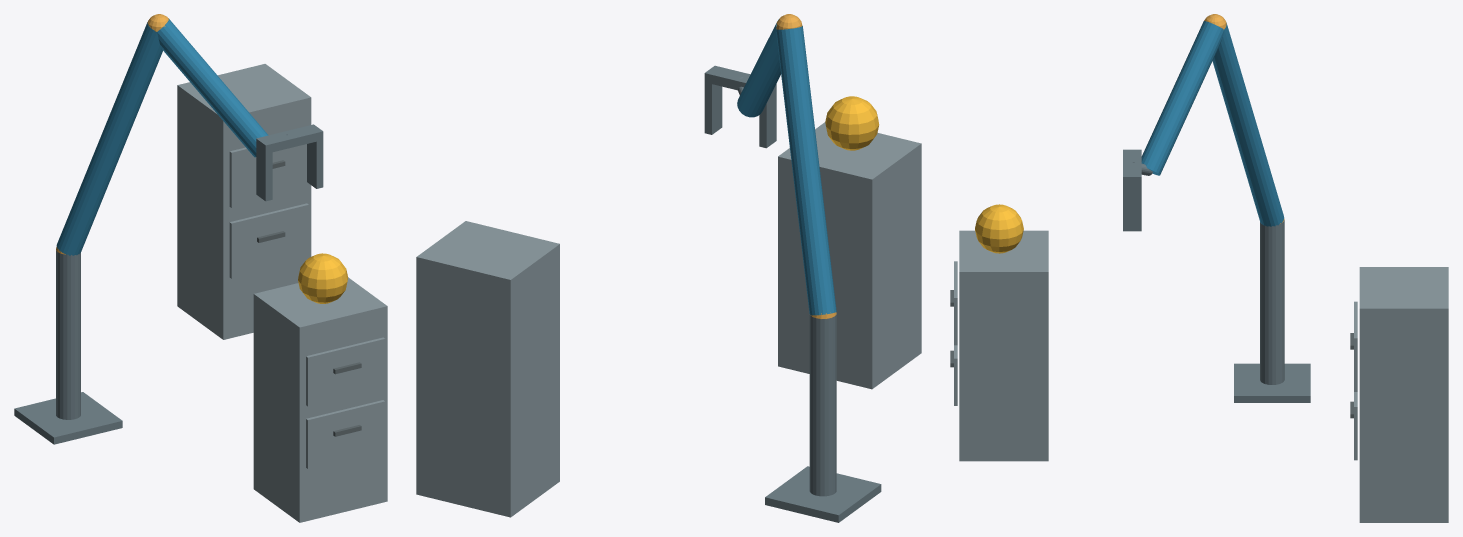
The picture shows the model from 3 angles, left to right: view 1: azimuth 30°, elevation 25°; view 2: azimuth 150°, elevation 25°; view 3: azimuth 270°, elevation 25°; orthographic projection. The views are drawn at different scales.
Visible parts, largest first — view 1: cabinet_1 body, cabinet_2 body, moving link 1, cabinet_2 drawer front, fixed post, cabinet_1 drawer front.001, cabinet_1 drawer front, moving link 2, cabinet_2 drawer front.001, pedestal, ball ball_1, gripper bridge (+2 smaller); view 2: cabinet_2 body, cabinet_1 body, moving link 1, fixed post, pedestal, ball ball_1, moving link 2, gripper finger 1, gripper finger -1, gripper bridge; view 3: cabinet_2 body, cabinet_1 body, moving link 1, fixed post, moving link 2, pedestal, ball ball_1, gripper finger 1, gripper bridge.
Part boxes in pixels (left/top/right/bottom): cabinet_1 body: left=253, top=277, right=387, bottom=522; cabinet_2 body: left=177, top=64, right=311, bottom=339; moving link 1: left=56, top=22, right=162, bottom=255; cabinet_2 drawer front: left=229, top=203, right=308, bottom=278; fixed post: left=56, top=250, right=80, bottom=419; cabinet_1 drawer front.001: left=306, top=337, right=385, bottom=406; cabinet_1 drawer front: left=306, top=400, right=385, bottom=468; moving link 2: left=157, top=18, right=268, bottom=157; cabinet_2 drawer front.001: left=229, top=144, right=308, bottom=207; pedestal: left=14, top=392, right=122, bottom=444; ball ball_1: left=298, top=253, right=348, bottom=303; gripper bridge: left=256, top=124, right=323, bottom=153; cabinet_2 body: left=416, top=221, right=559, bottom=517; cabinet_1 body: left=778, top=122, right=921, bottom=389; moving link 1: left=776, top=26, right=836, bottom=315; fixed post: left=809, top=312, right=836, bottom=496; pedestal: left=765, top=466, right=881, bottom=522; ball ball_1: left=825, top=96, right=879, bottom=150; moving link 2: left=737, top=19, right=780, bottom=117; gripper finger 1: left=704, top=82, right=722, bottom=134; gripper finger -1: left=759, top=90, right=776, bottom=148; gripper bridge: left=704, top=65, right=776, bottom=93; cabinet_2 body: left=1359, top=267, right=1448, bottom=522; cabinet_1 body: left=959, top=230, right=1048, bottom=461; moving link 1: left=1212, top=22, right=1284, bottom=226; fixed post: left=1260, top=220, right=1284, bottom=384; moving link 2: left=1141, top=21, right=1223, bottom=175; pedestal: left=1234, top=363, right=1310, bottom=402; ball ball_1: left=975, top=204, right=1023, bottom=253; gripper finger 1: left=1123, top=185, right=1141, bottom=231; gripper bridge: left=1123, top=149, right=1141, bottom=185.
Size of the model in its own units: 1.17 by 1.44 by 1.62.
